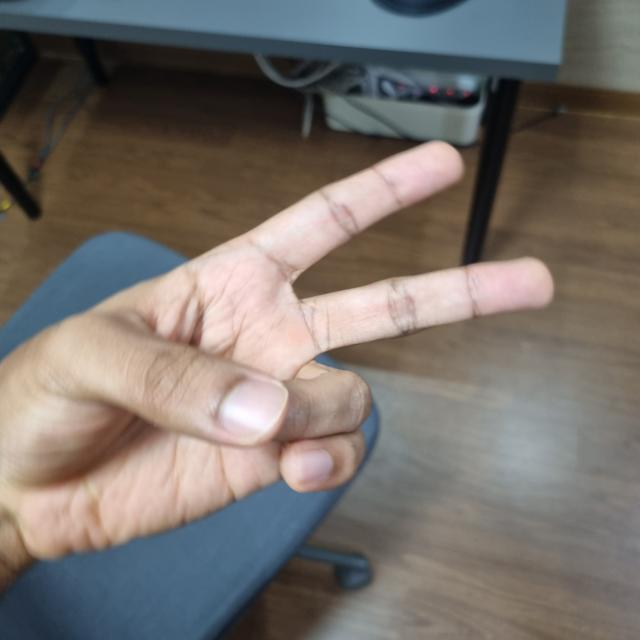Scissors: (2, 141, 541, 559)
